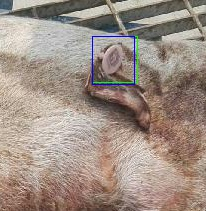text: (92, 36, 137, 82)
